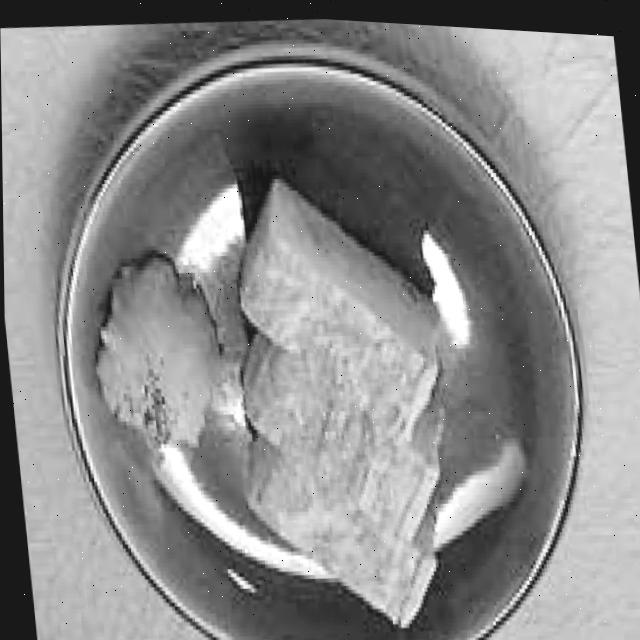鸡蛋料理: (190, 145, 475, 640)
